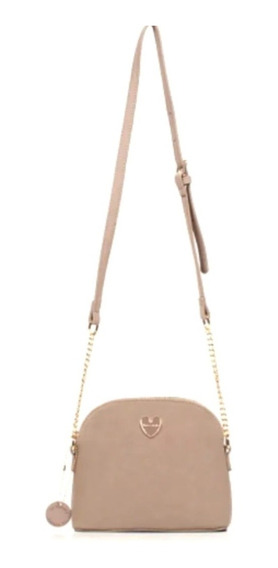cartera: (46, 22, 235, 534)
